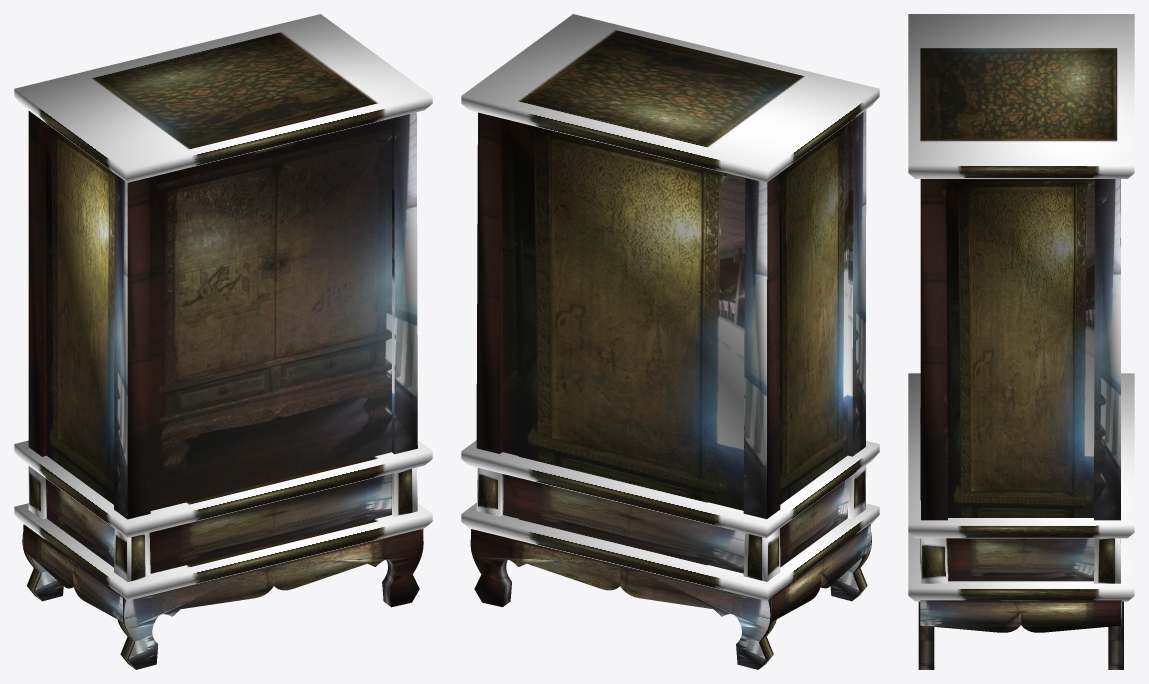
The model's file is Cabinet2.obj.
The picture shows the model from 3 angles, left to right: view 1: azimuth 30°, elevation 25°; view 2: azimuth 150°, elevation 25°; view 3: azimuth 270°, elevation 25°; orthographic projection.
Parts seen in each view (by area): view 1: Box02, Box14, Box12, Shape02, Box03, Box13, Shape04, Shape03; view 2: Box02, Box14, Box12, Shape03, Box03, Box13, Shape04, Shape02; view 3: Box02, Box14, Box12, Box03, Shape05, Box13, Shape02, Shape03.
Part boxes in pixels (x1=…): Box02: x1=28, y1=111, x2=417, y2=519; Box14: x1=14, y1=14, x2=432, y2=182; Box12: x1=28, y1=466, x2=417, y2=581; Shape02: x1=117, y1=529, x2=423, y2=669; Box03: x1=14, y1=440, x2=432, y2=537; Box13: x1=14, y1=503, x2=432, y2=600; Shape04: x1=23, y1=524, x2=124, y2=622; Shape03: x1=22, y1=532, x2=63, y2=601; Box02: x1=476, y1=110, x2=866, y2=519; Box14: x1=461, y1=14, x2=879, y2=182; Box12: x1=476, y1=465, x2=866, y2=581; Shape03: x1=470, y1=529, x2=776, y2=669; Box03: x1=461, y1=440, x2=879, y2=538; Box13: x1=461, y1=503, x2=879, y2=600; Shape04: x1=769, y1=524, x2=870, y2=622; Shape02: x1=830, y1=532, x2=871, y2=601; Box02: x1=920, y1=179, x2=1120, y2=520; Box14: x1=908, y1=14, x2=1134, y2=178; Box12: x1=920, y1=538, x2=1120, y2=583; Box03: x1=908, y1=373, x2=1134, y2=538; Shape05: x1=920, y1=600, x2=1121, y2=632; Box13: x1=908, y1=533, x2=1134, y2=601; Shape02: x1=918, y1=601, x2=934, y2=669; Shape03: x1=1108, y1=601, x2=1123, y2=669.
Size of the model in its own units: 13.69 by 21.65 by 8.66.
